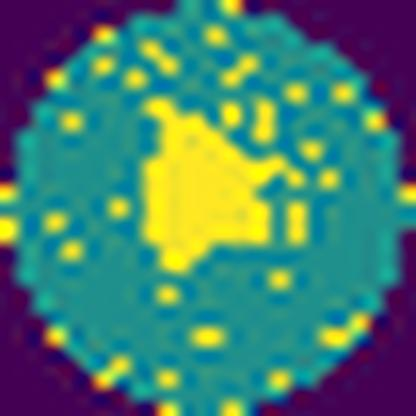Center: (144, 98, 286, 275)
